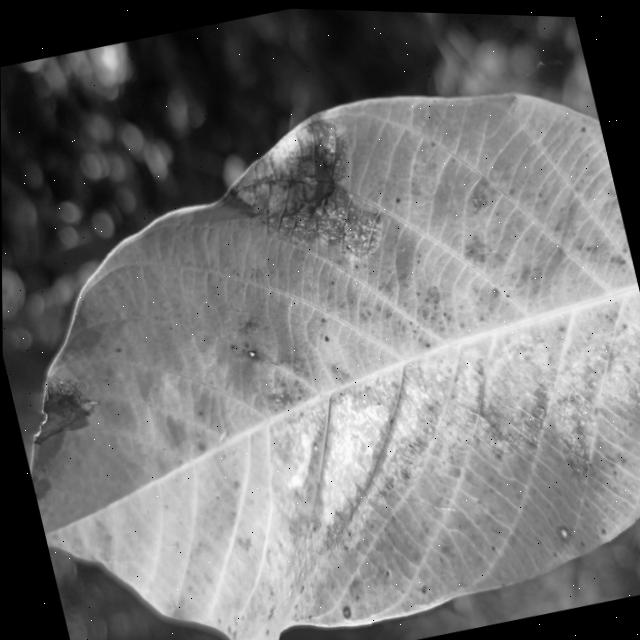Colletotrichum: (556, 520, 569, 536), (247, 347, 255, 354), (323, 333, 328, 339)
Leaf-Blight: (227, 348, 489, 591), (207, 102, 383, 281), (541, 324, 640, 479), (464, 331, 565, 461), (430, 347, 500, 450), (19, 366, 105, 444)
